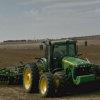Tractor: (19, 34, 100, 99)
